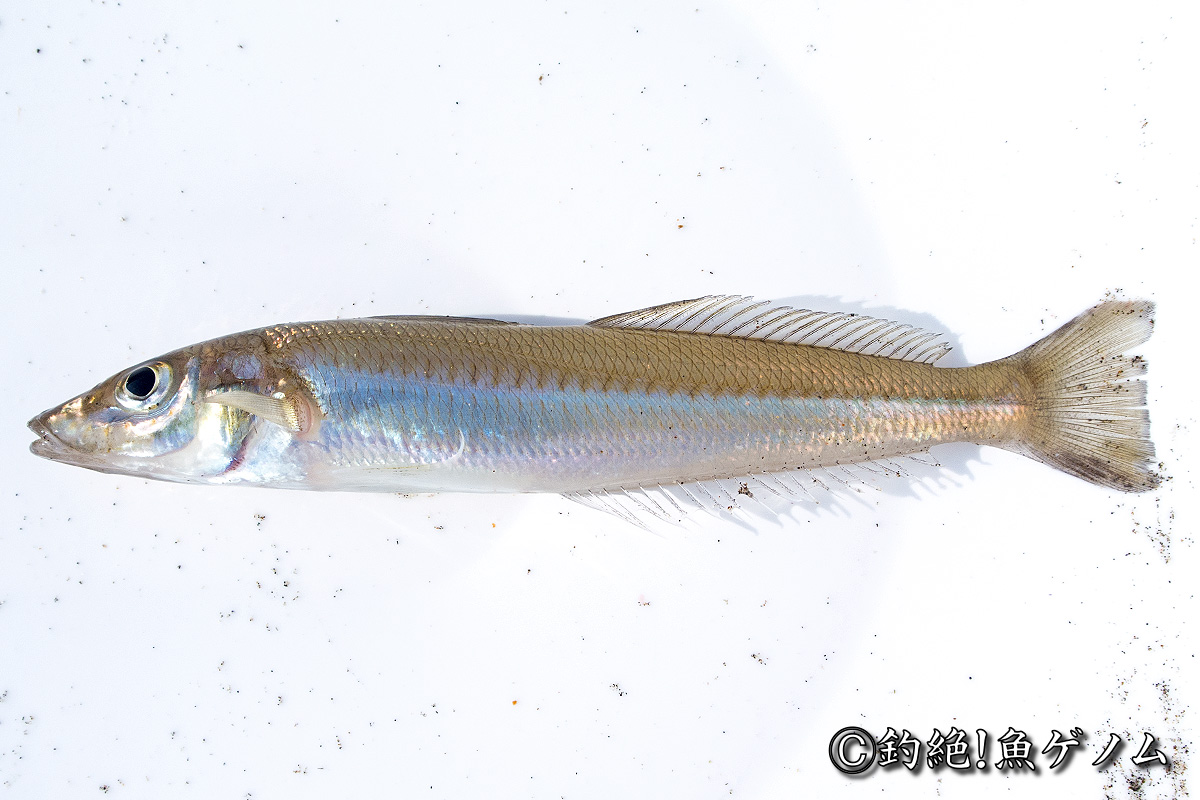kiss: (20, 263, 1174, 542)
